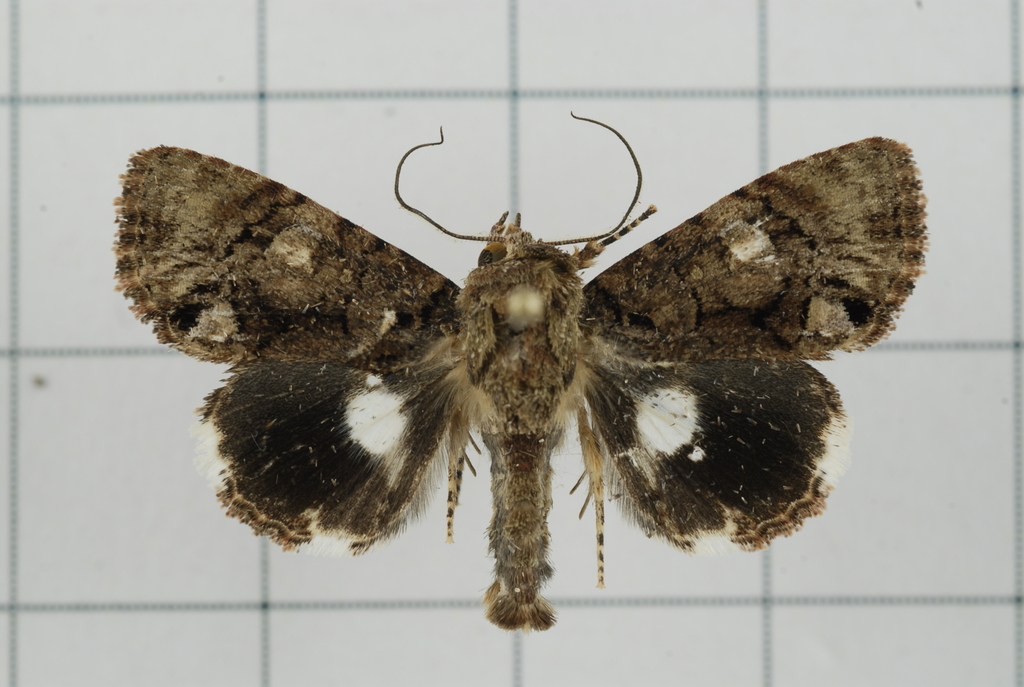Butterfly: (90, 107, 922, 634)
